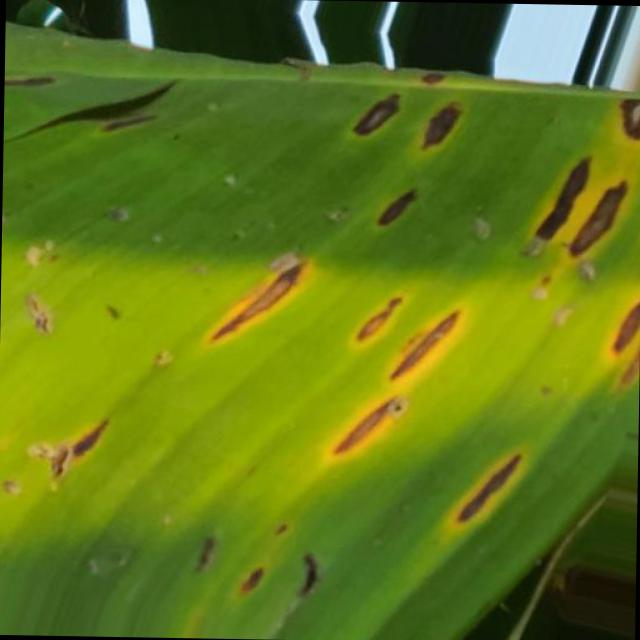Banana_Yellow_Sigatoka: (196, 246, 338, 350), (356, 268, 467, 395), (539, 140, 640, 255), (451, 438, 534, 536), (303, 394, 427, 458), (345, 76, 410, 154), (412, 93, 468, 155), (374, 181, 431, 239), (608, 285, 640, 372)
